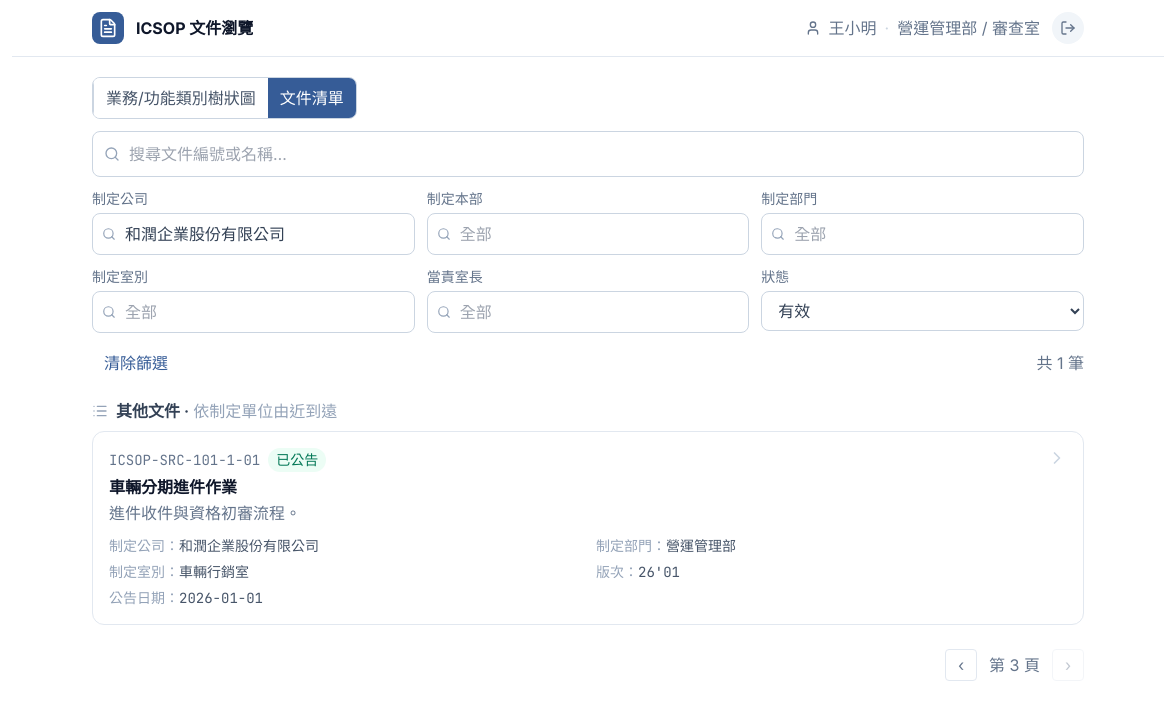
Test: 前台清單 · UX 稽核回歸 › B-1 查詢狀態以 URL query 為單一真相（UX-5） › 變更制定部門篩選寫回網址並重設頁碼
The image size is (1164, 720).
Expected: the heading "車輛分期進件作業" is shown, [109,477,237,497]
Click the dropdown labelled "制定部門": (923, 234) [761,213,1084,255]
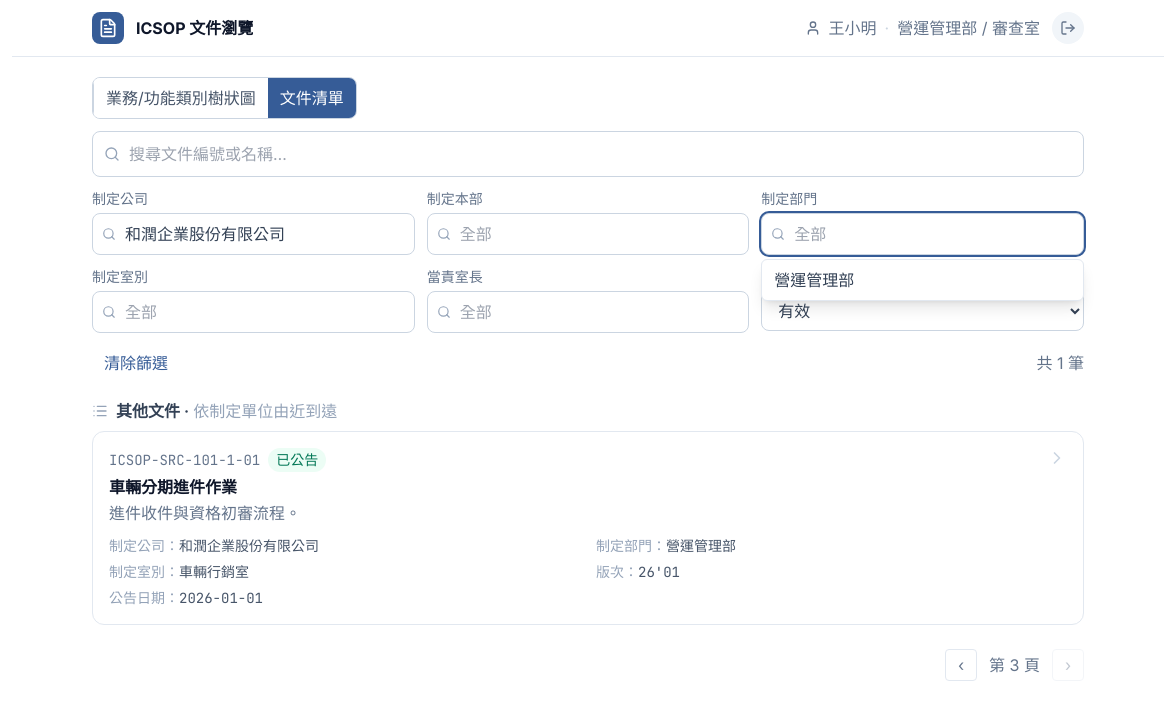
Click the option "營運管理部": (814, 280) [762,260,1083,300]
(page scrolled)
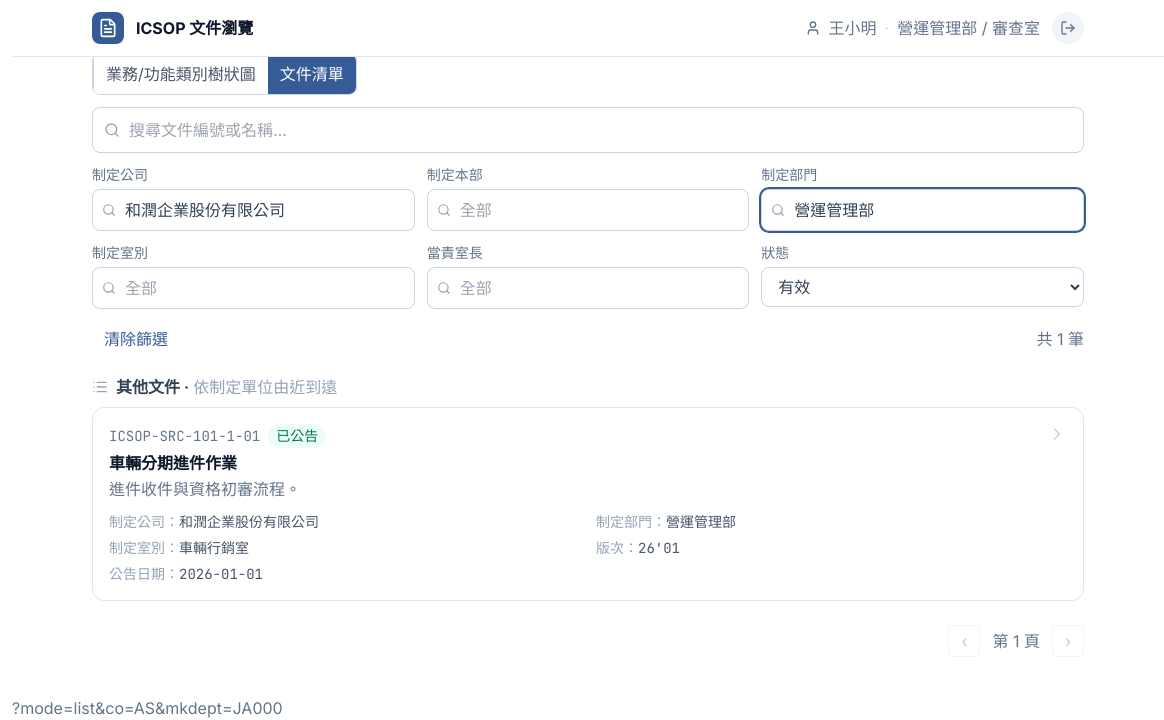
Now the text with test id "loc-search" shows "mkdept=JA000", box [12,698,283,718]
